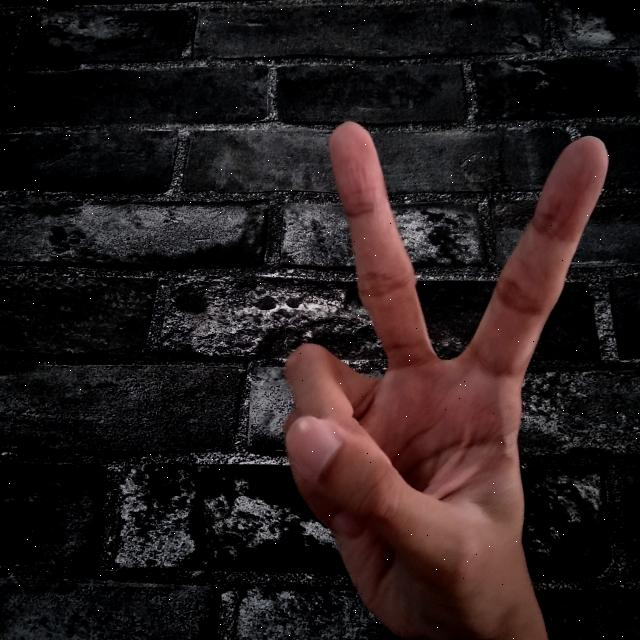V: (266, 114, 616, 640)
